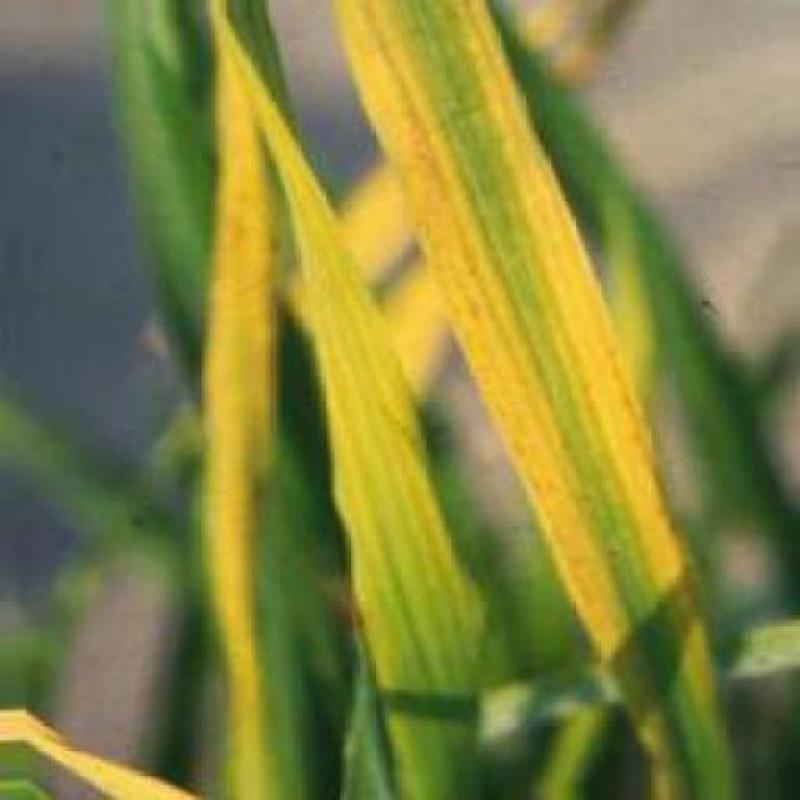Rice Tungro: (332, 4, 754, 785), (228, 12, 532, 752), (191, 9, 291, 798), (3, 694, 198, 798)
